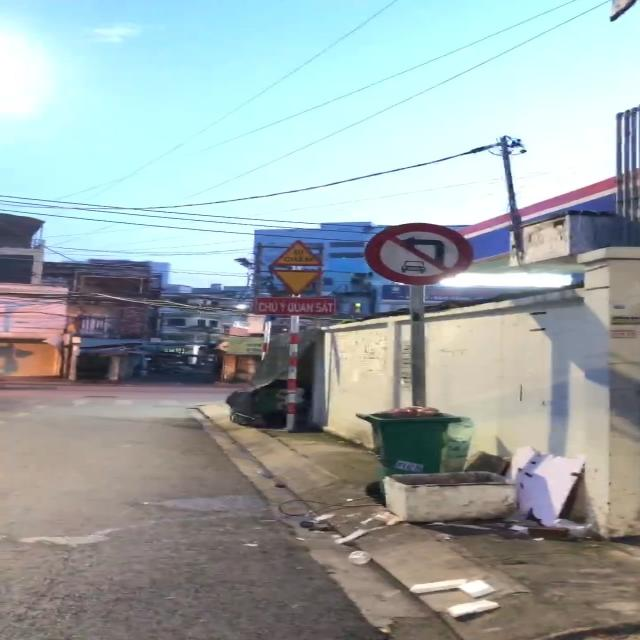Bien bao di cham: (264, 235, 328, 267)
Bien bao giao nhau voi duong uu tien: (268, 266, 324, 298)
